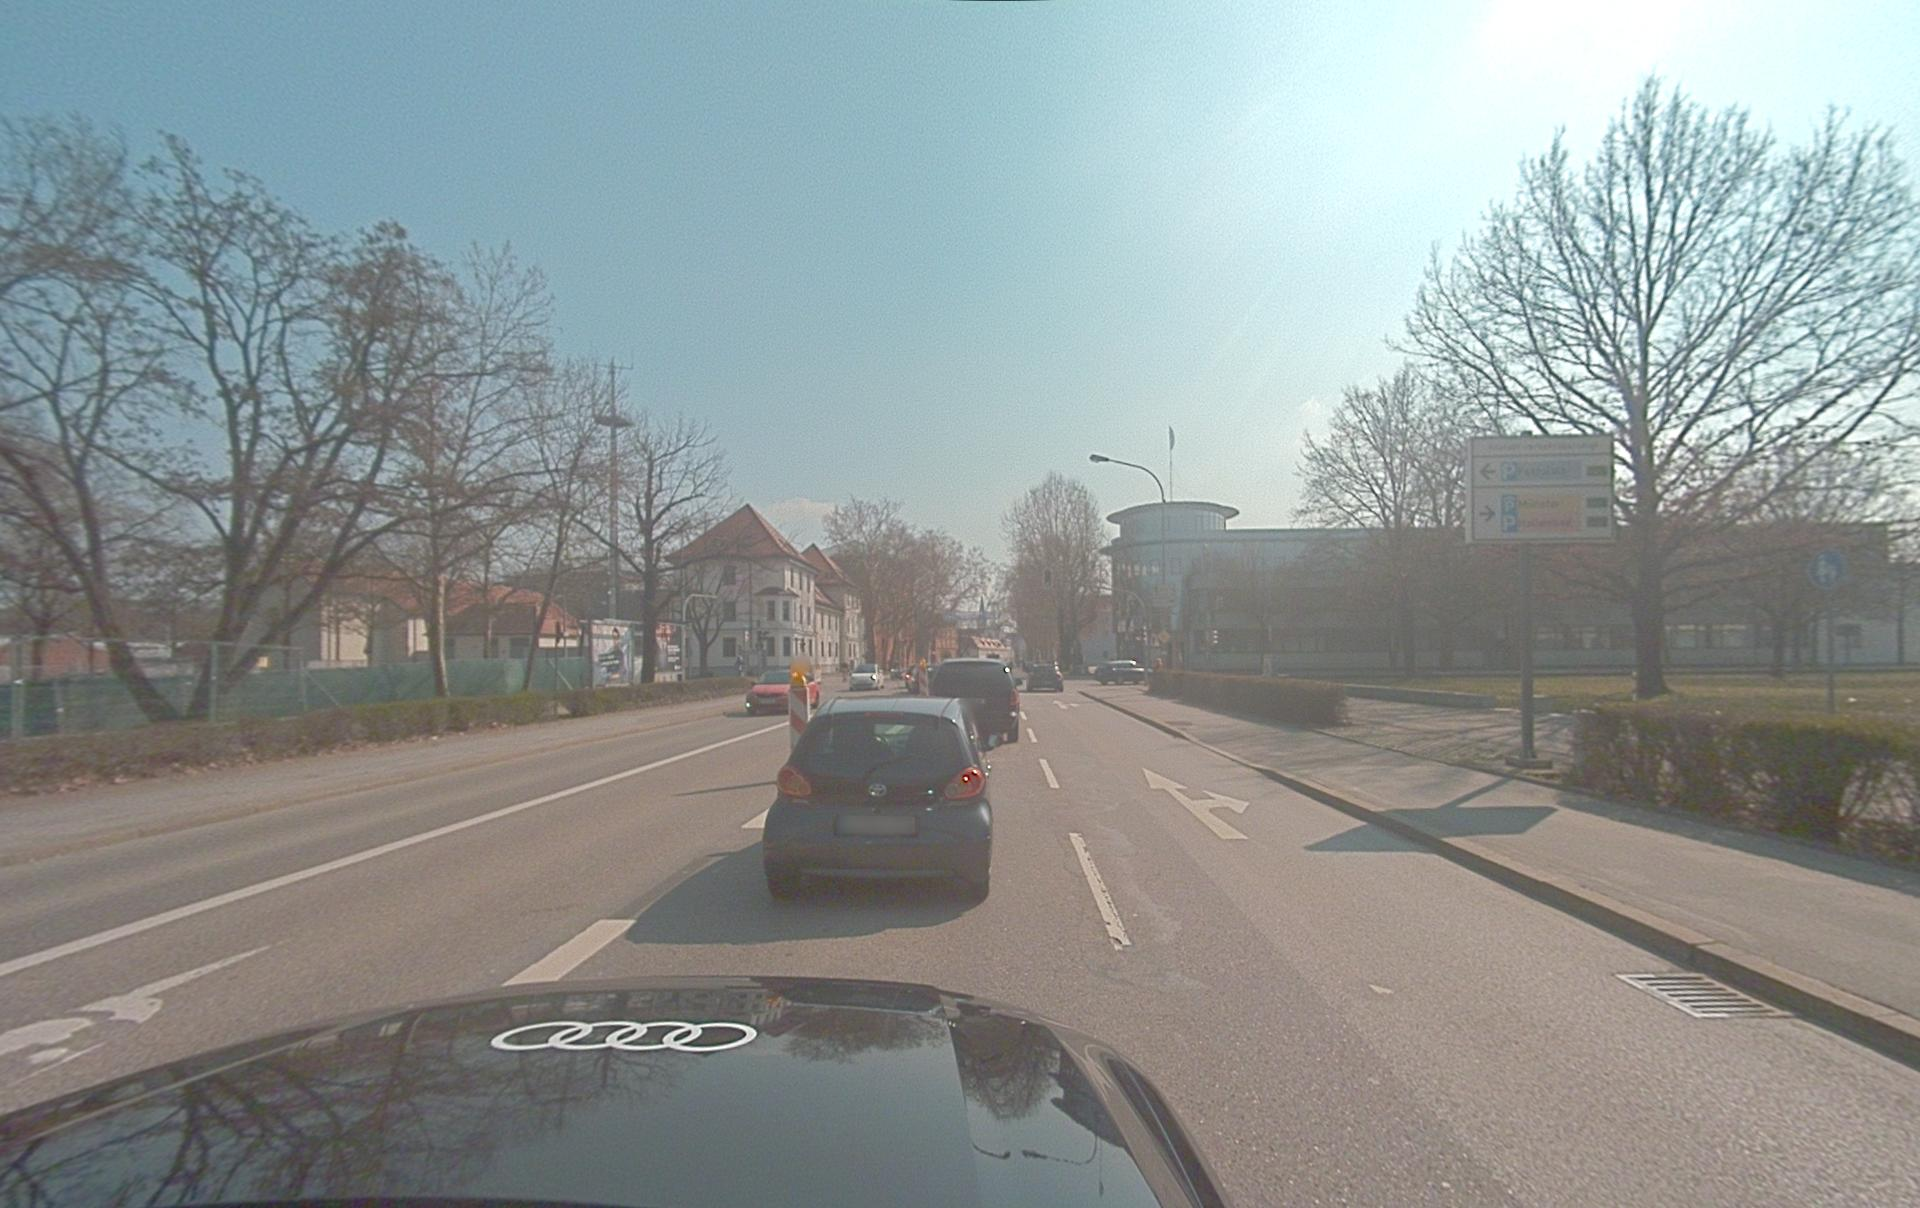car: (0, 974, 1231, 1207), (763, 696, 994, 900), (927, 658, 1021, 745), (745, 668, 821, 715), (1096, 659, 1146, 685), (1026, 664, 1063, 692), (849, 665, 881, 690)
traffic sign: (1466, 434, 1617, 544)
